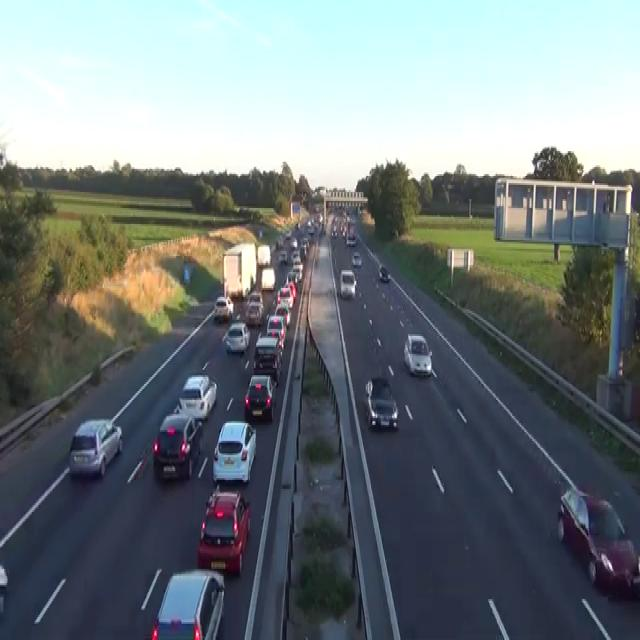Car: (556, 487, 639, 596), (150, 567, 225, 638), (197, 487, 250, 574), (152, 411, 202, 480), (68, 418, 122, 478), (212, 419, 256, 484), (365, 375, 398, 430), (177, 374, 217, 419), (244, 374, 276, 422), (252, 334, 282, 384), (403, 332, 432, 377), (224, 322, 250, 354), (266, 314, 286, 346), (213, 295, 233, 322), (339, 268, 356, 298), (266, 329, 283, 359), (245, 302, 262, 326), (276, 284, 293, 308), (0, 564, 8, 615), (0, 540, 8, 588), (274, 304, 290, 327), (284, 272, 297, 297), (247, 292, 263, 308), (378, 265, 390, 283), (292, 263, 302, 281), (351, 250, 362, 266), (0, 564, 8, 586), (286, 270, 297, 284), (291, 251, 301, 265), (278, 249, 287, 263), (346, 233, 356, 245), (300, 236, 309, 249), (275, 236, 283, 249), (299, 244, 306, 258), (307, 224, 314, 235), (290, 238, 297, 247), (331, 226, 337, 236), (341, 226, 346, 236), (285, 230, 291, 238), (258, 228, 262, 238), (294, 222, 299, 230)
Truck: (222, 242, 256, 298), (257, 244, 270, 266), (290, 201, 300, 219)
